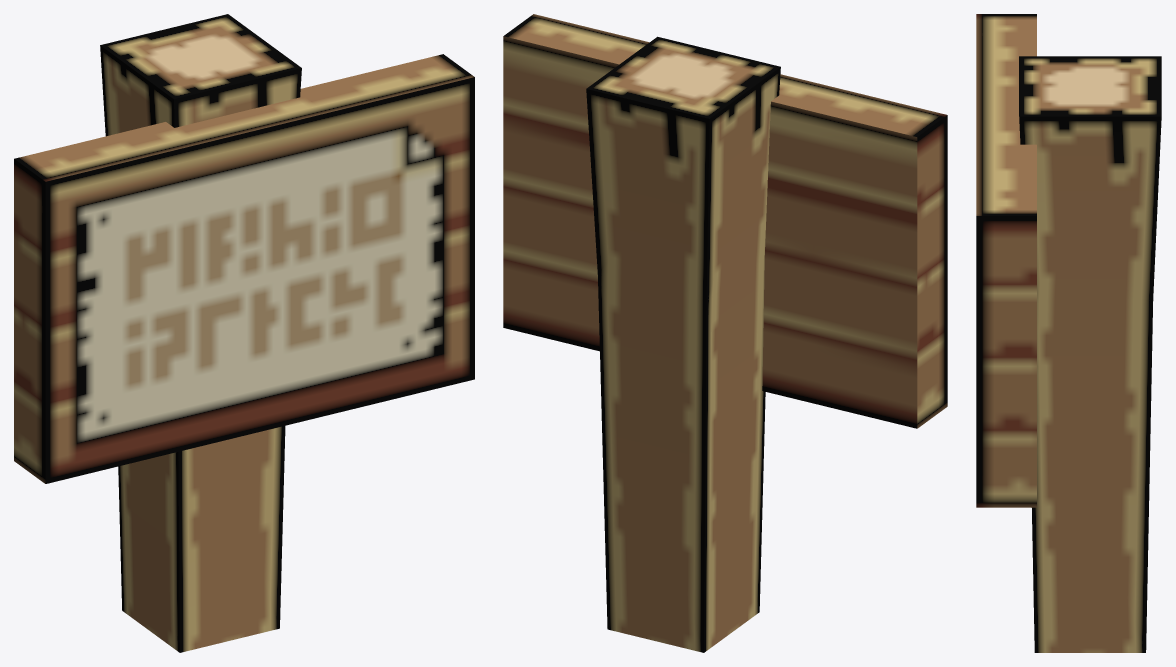
File: deco_cathedral_signB.FBX
3 views of the same model, side by side, from view 1: azimuth 30°, elevation 25°; view 2: azimuth 150°, elevation 25°; view 3: azimuth 270°, elevation 25° (orthographic). The views are drawn at different scales.
Parts seen in each view (by area): view 1: deco_cathedral_signB; view 2: deco_cathedral_signB; view 3: deco_cathedral_signB.
Part boxes in pixels (<box>): deco_cathedral_signB: <box>14,14,474,652</box>; deco_cathedral_signB: <box>503,14,947,652</box>; deco_cathedral_signB: <box>976,14,1161,652</box>.
Bounding box in the file's own units: 2.07 × 2.59 × 0.8023.
1 material, 1 textured.
